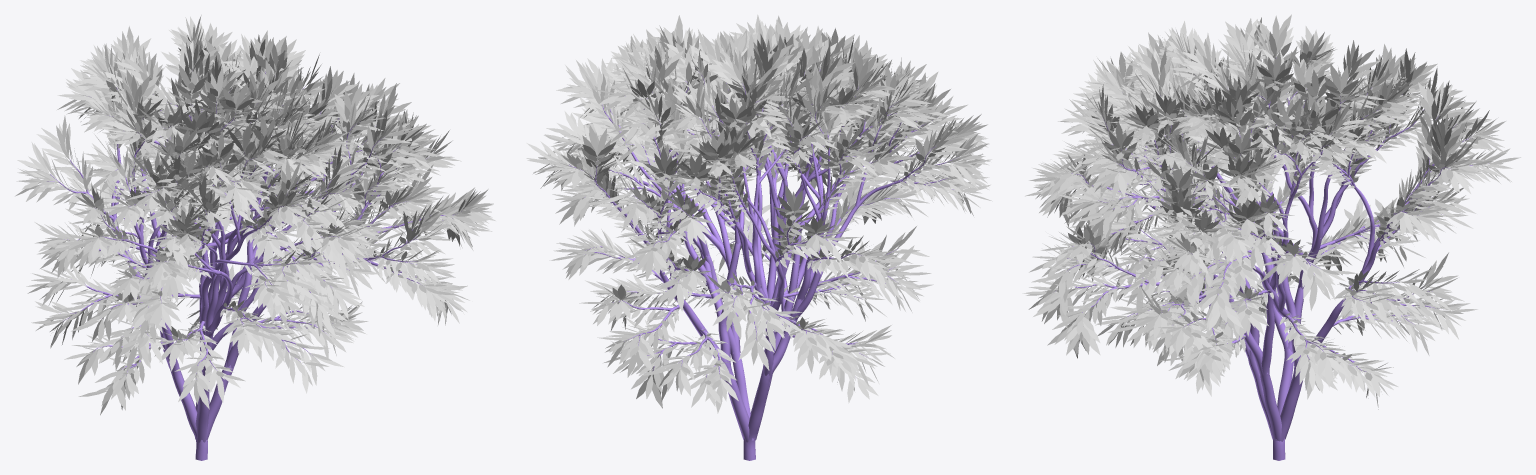
File: Bush.fbx
3 renders of one model, left to right at view 1: azimuth 30°, elevation 25°; view 2: azimuth 150°, elevation 25°; view 3: azimuth 270°, elevation 25°, orthographic. The views are drawn at different scales.
Visible parts, largest first — view 1: leaves, tree; view 2: leaves, tree; view 3: leaves, tree.
Boxes of the visible parts, bbox=[...] form: leaves: bbox=[15, 15, 495, 415]; tree: bbox=[47, 71, 461, 460]; leaves: bbox=[526, 14, 992, 413]; tree: bbox=[569, 69, 953, 460]; leaves: bbox=[1022, 14, 1520, 409]; tree: bbox=[1055, 57, 1488, 460].
Bounding box in the file's own units: 1077 × 949 × 1034.
